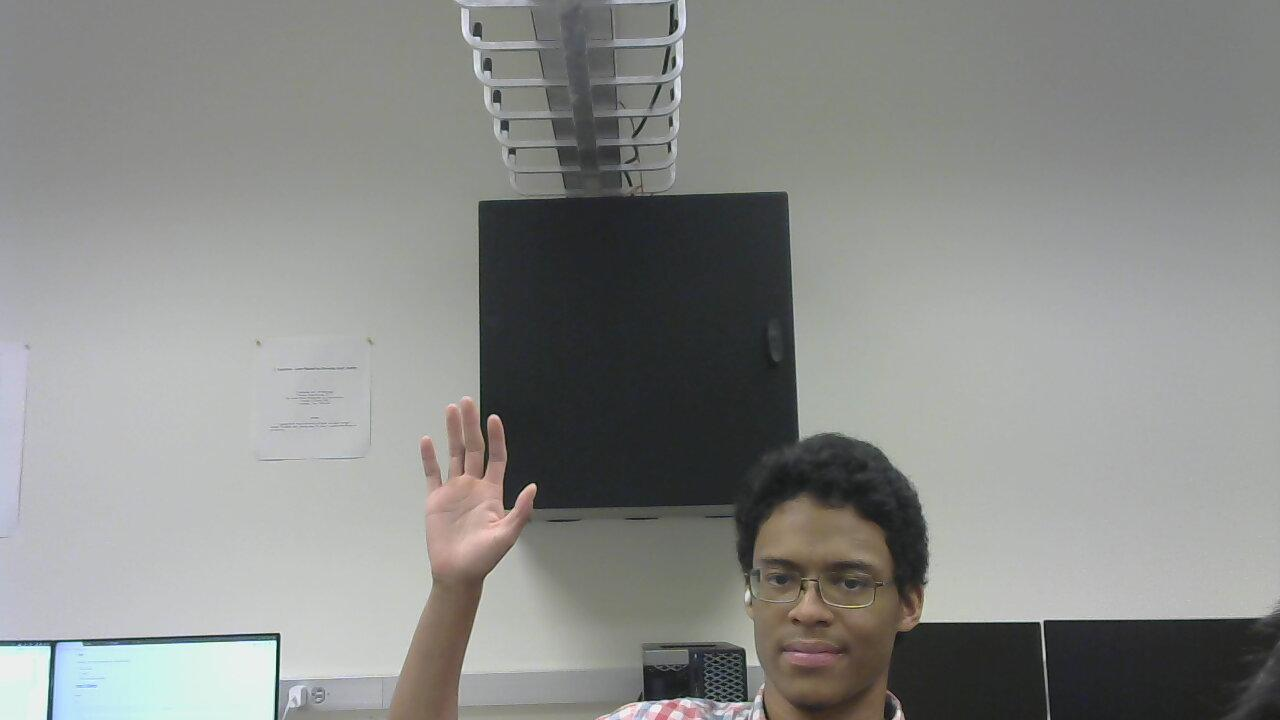hands: (383, 388, 539, 588)
